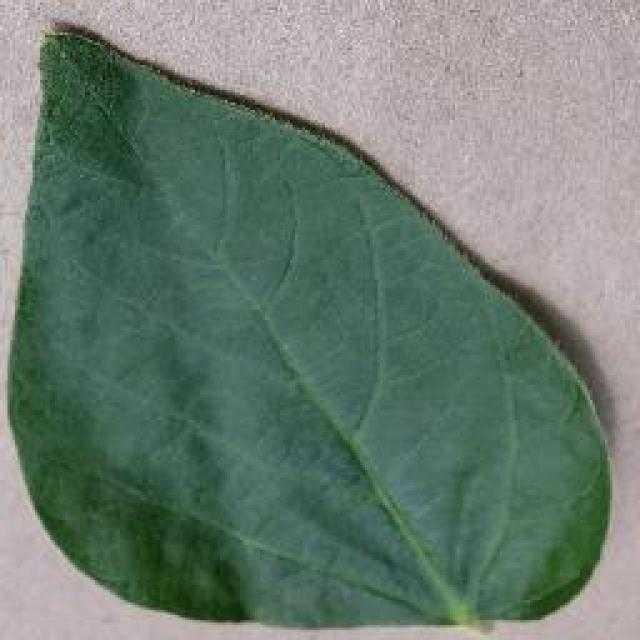Soy_healthy: (16, 73, 502, 580)
